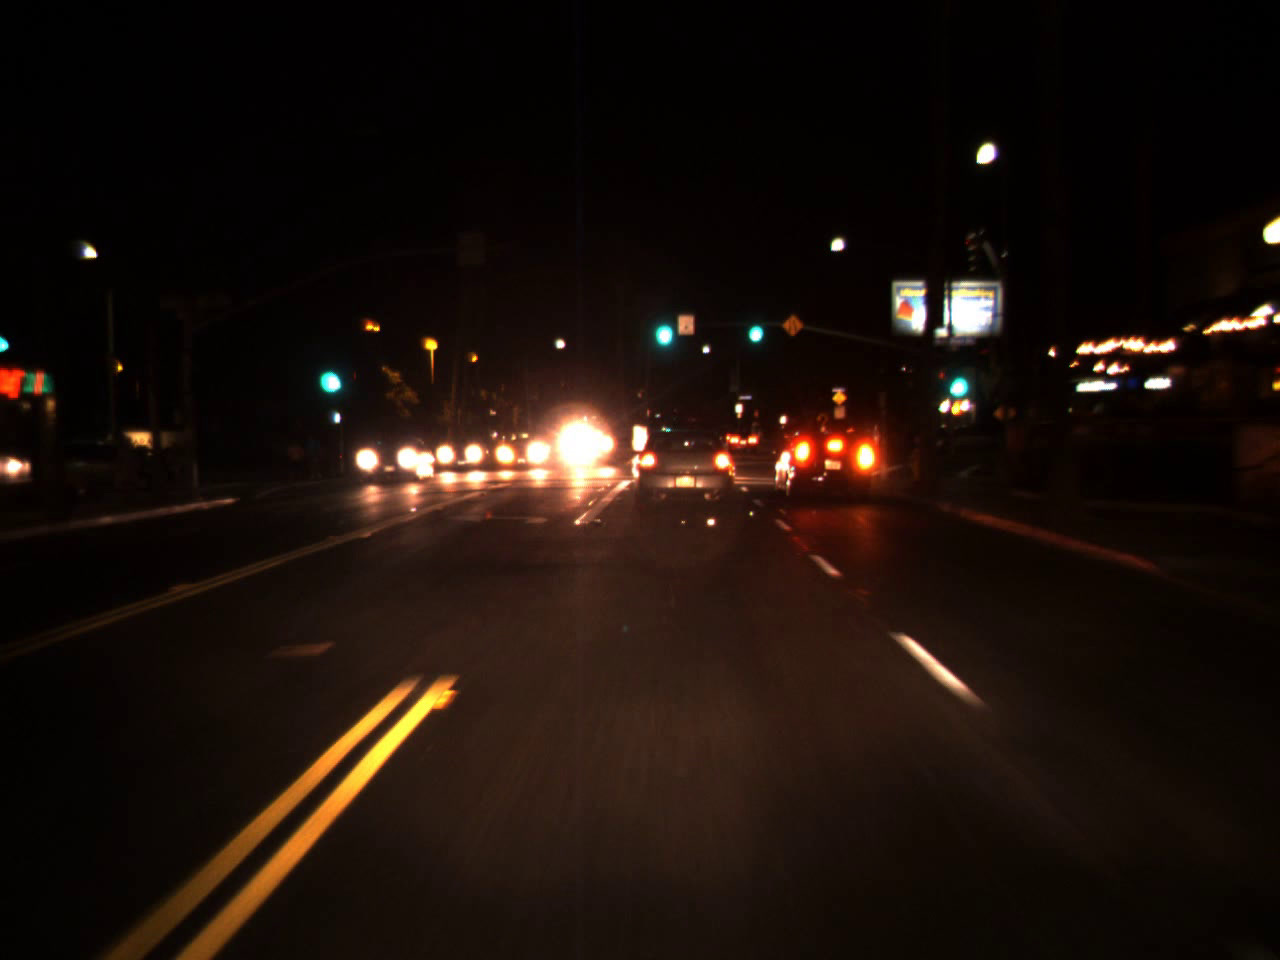go: (312, 342, 342, 402), (648, 297, 676, 354), (943, 357, 968, 402), (744, 309, 765, 345)
